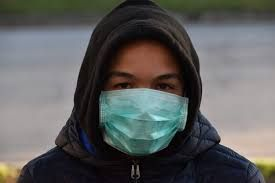with-mask: (92, 32, 195, 162)
